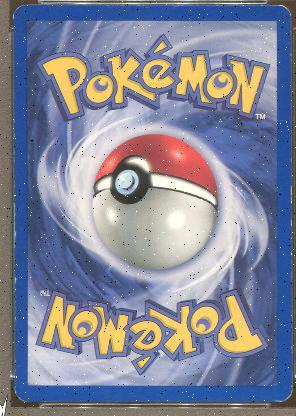Card: (10, 3, 292, 404)
Corner Wear: (273, 386, 291, 402), (13, 386, 29, 402), (12, 4, 24, 20), (271, 5, 289, 15)
Edge Wear: (169, 4, 264, 6), (13, 202, 16, 248), (14, 274, 16, 326), (104, 4, 144, 6), (14, 358, 16, 390), (13, 111, 14, 165), (288, 184, 290, 206), (288, 236, 290, 254), (290, 300, 291, 330), (288, 48, 290, 63), (288, 270, 290, 284), (288, 218, 290, 228), (289, 345, 291, 353)
